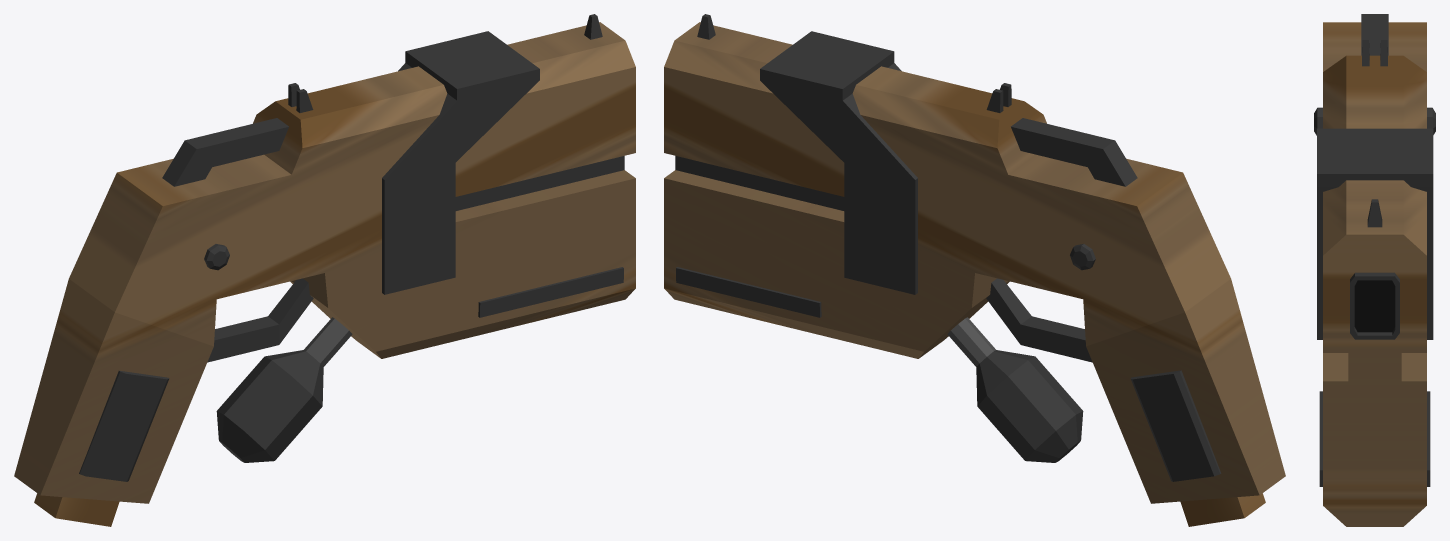
The model's file is Handgun_C_V3.FBX.
3 views of the same model, side by side, from view 1: azimuth 30°, elevation 25°; view 2: azimuth 150°, elevation 25°; view 3: azimuth 270°, elevation 25° (orthographic). The views are drawn at different scales.
Visible parts, largest first — view 1: Handgun_C_V3, Magazine; view 2: Handgun_C_V3, Magazine; view 3: Handgun_C_V3.
Part boxes in pixels (x1,y1,x2,y2): Handgun_C_V3: (14,14,635,503); Magazine: (34,493,119,526); Handgun_C_V3: (664,14,1285,503); Magazine: (1180,493,1265,526); Handgun_C_V3: (1314,14,1435,526).
Size of the model in its own units: 141 by 87.1 by 22.22.
